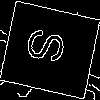S: (25, 25, 75, 69)
